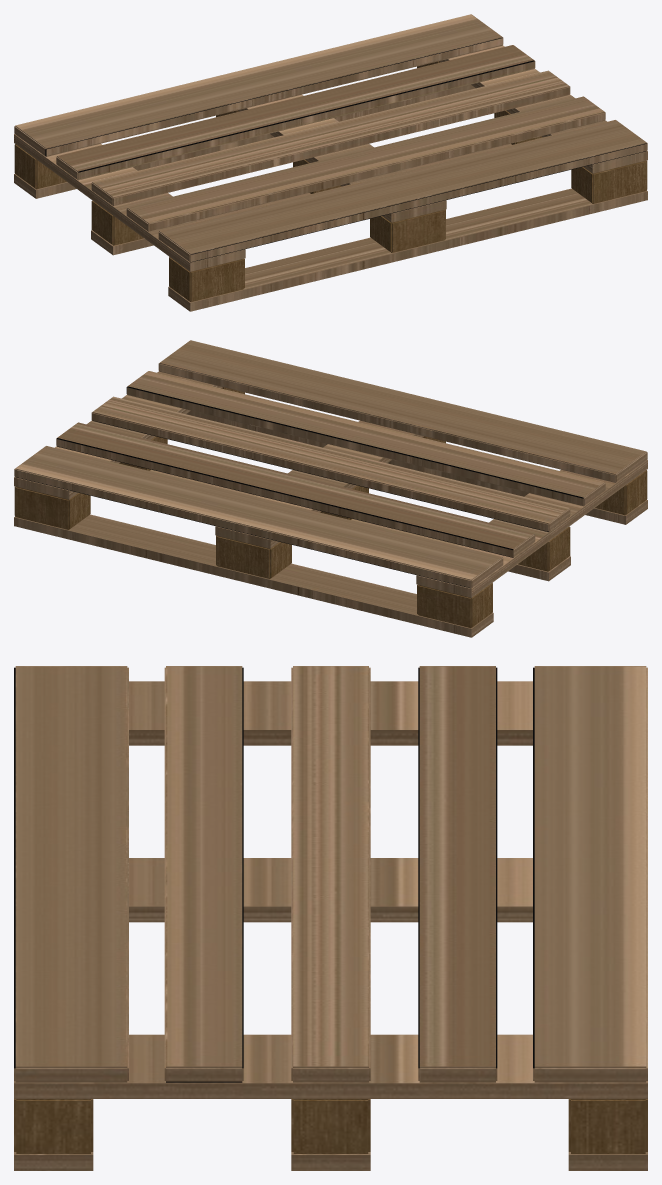
The model's file is obj_pallet.glb.
3 renders of one model, top to bottom at view 1: azimuth 30°, elevation 25°; view 2: azimuth 150°, elevation 25°; view 3: azimuth 270°, elevation 25°, orthographic. The views are drawn at different scales.
Visible parts, largest first — view 1: pallet_body; view 2: pallet_body; view 3: pallet_body.
Boxes of the visible parts, box(x1,y1,x2,y2) form: pallet_body: box(14, 14, 647, 311); pallet_body: box(14, 340, 647, 637); pallet_body: box(14, 666, 647, 1170).
Bounding box in the file's own units: 1.2 × 0.144 × 0.8.
1 material, 1 textured.
